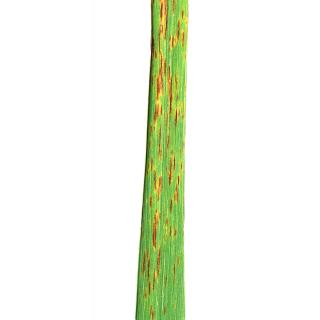Bercak-Cokelat-Sempit: (153, 0, 185, 132), (139, 244, 157, 300), (144, 155, 158, 191), (166, 147, 178, 188), (171, 254, 183, 286), (152, 207, 160, 249), (166, 222, 182, 243)
